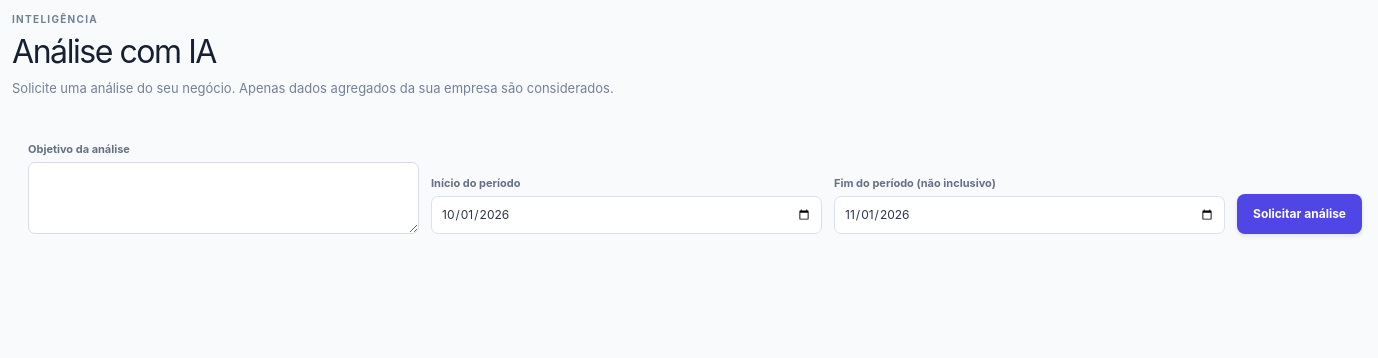
Test: Backoffice AIAnalysisPage › submits the request without any tenant and shows the queued state
The image size is (1378, 358).
Type "  Entender o desempenho de vendas  " into the text box labelled "Objetivo da análise".
click(224, 198); type("  Entender o desempenho de vendas  ")  # box [28, 162, 419, 234]
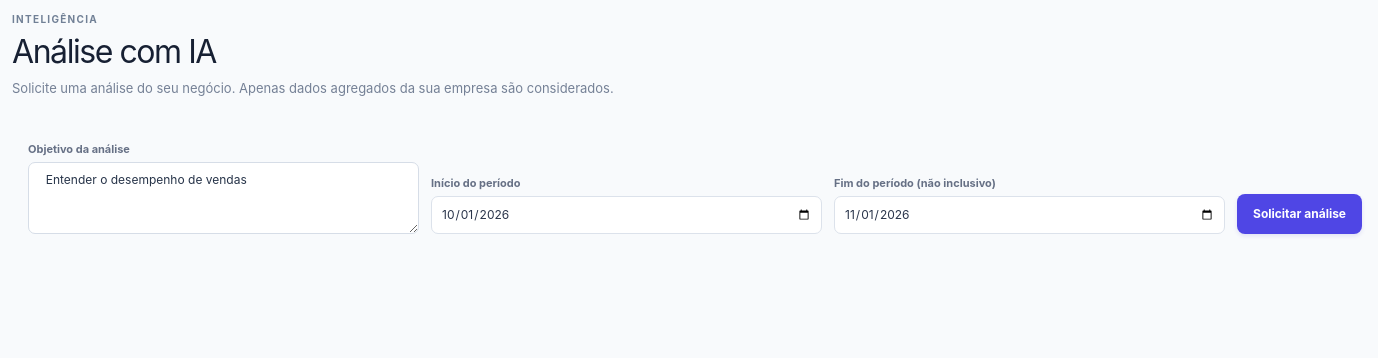
Type "2030-02-01" into the date field labelled "Início do período".
click(626, 215); type("2030-02-01")  # box [431, 196, 822, 234]
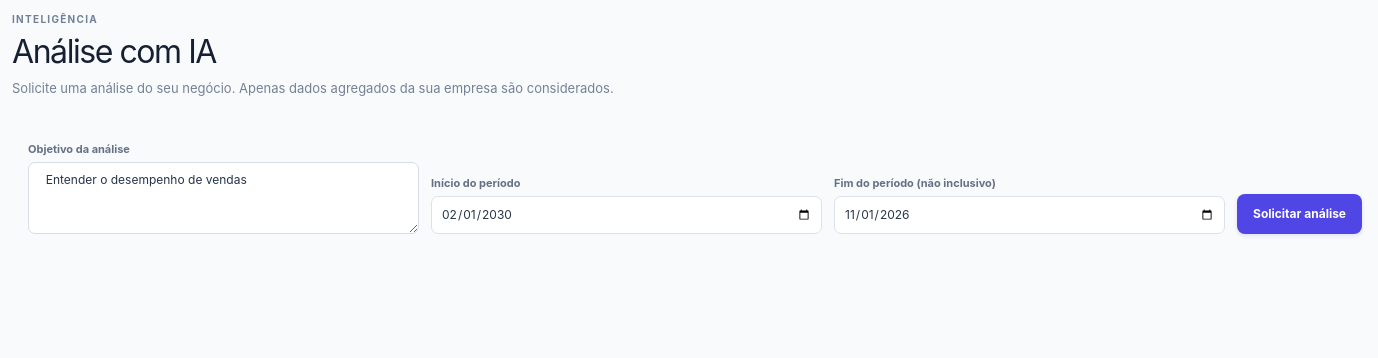
Type "2030-03-01" into the date field labelled "Fim do período (não inclusivo)".
click(1030, 215); type("2030-03-01")  # box [834, 196, 1225, 234]
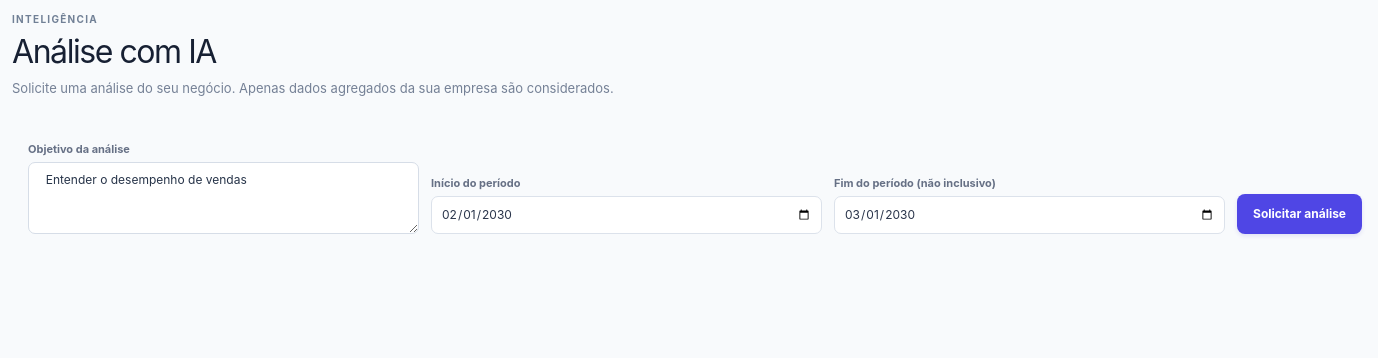
Click the button "Solicitar análise".
click(1300, 214)  # box [1237, 194, 1362, 234]
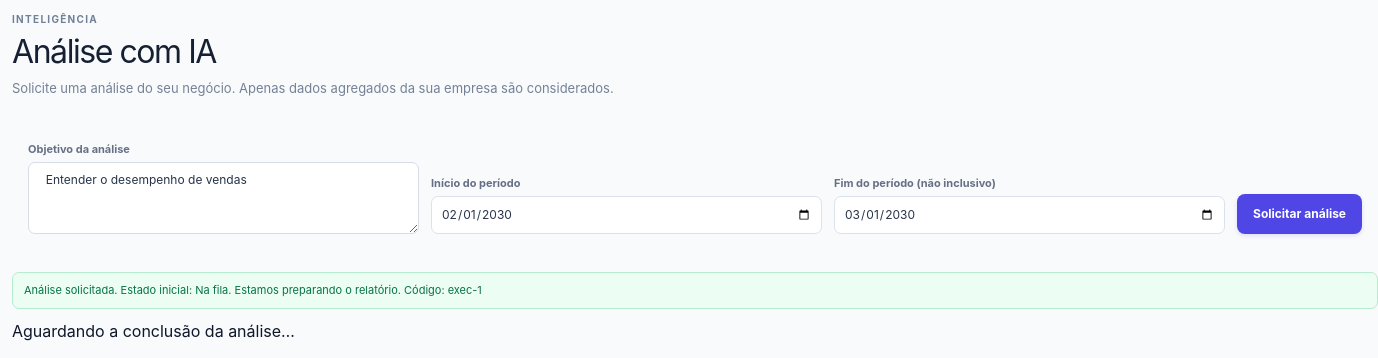
Check: the text "Na fila" is shown, box [24, 283, 401, 297]
